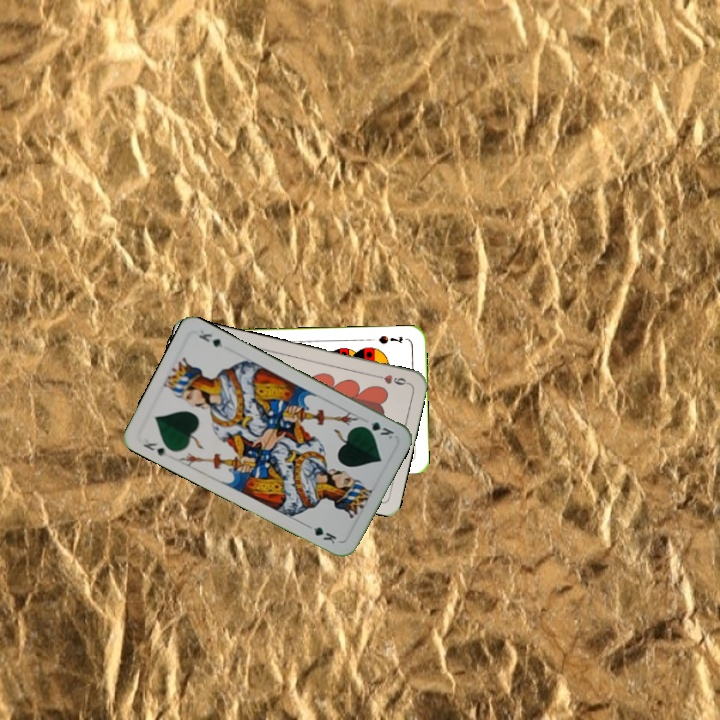GK: (357, 418, 396, 442), (139, 438, 170, 459)
H9: (371, 371, 412, 388)
S7: (374, 332, 405, 346)
